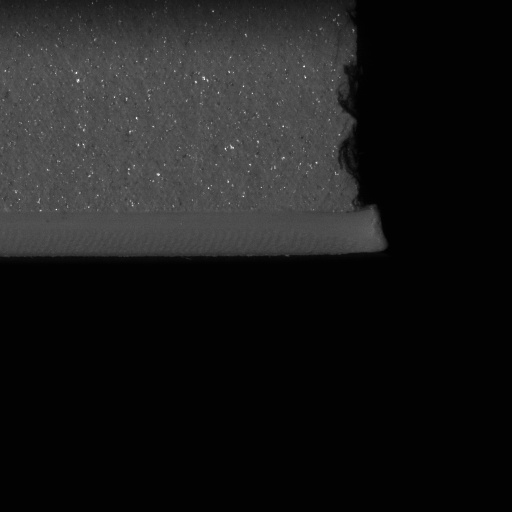bengque: (327, 66, 380, 216)
